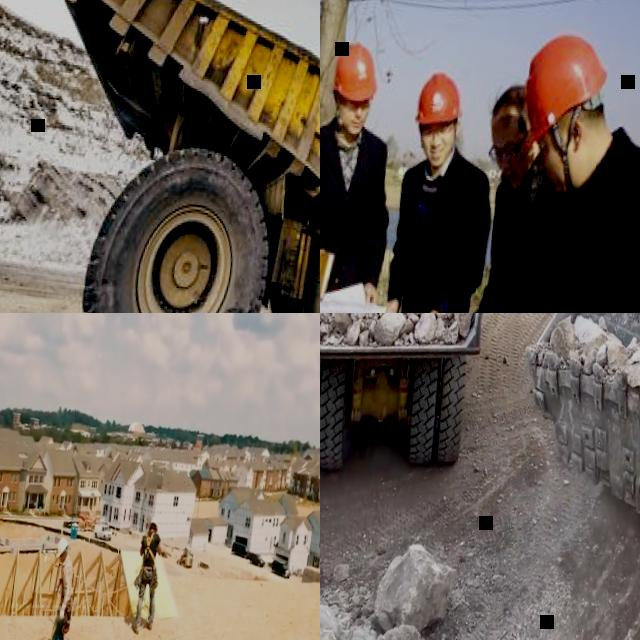helmet: (517, 32, 611, 162), (329, 40, 381, 104), (412, 70, 467, 130), (56, 537, 69, 558), (149, 518, 159, 532)
machinery: (2, 0, 320, 313), (499, 313, 640, 584), (320, 313, 514, 503), (77, 512, 96, 532)
no_helmet: (490, 79, 530, 130)
no_mask: (540, 154, 578, 194), (500, 156, 530, 192), (423, 140, 452, 170), (338, 112, 364, 138), (59, 556, 65, 563)
no_vest: (515, 144, 640, 313), (392, 160, 477, 313), (320, 132, 382, 293), (489, 186, 541, 313), (140, 532, 160, 568)
person: (473, 31, 640, 313), (357, 66, 509, 313), (437, 78, 569, 313), (320, 34, 411, 313), (130, 516, 166, 636), (41, 537, 79, 640)
vehicle: (270, 558, 292, 579), (92, 522, 112, 541), (230, 540, 250, 558), (247, 551, 266, 567)
